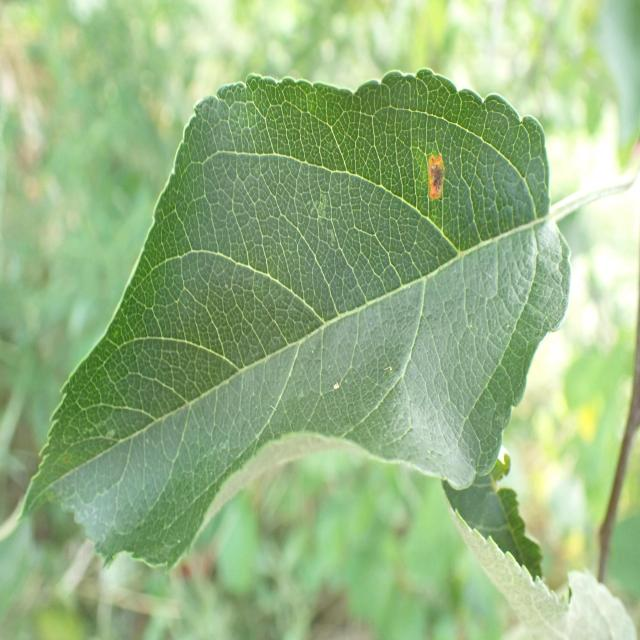Rust: (422, 138, 454, 244)
